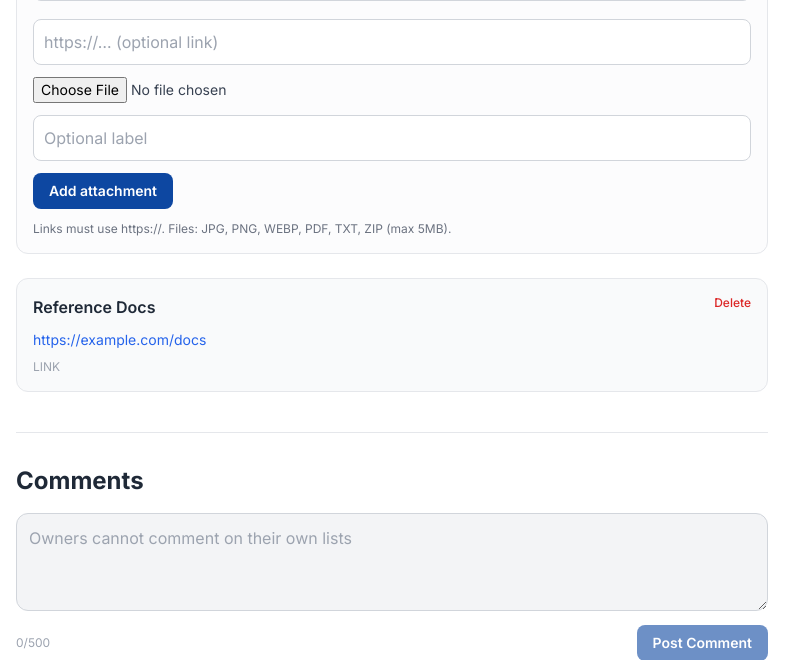
Scenario: ListDetail › deletes a list attachment and removes it from UI
The width and height of the screenshot is (785, 660).
(page scrolled)
expect the text "Reference Docs" is shown: met, box [33, 297, 156, 317]
Click the button "Delete": [733, 303] box [714, 295, 751, 311]
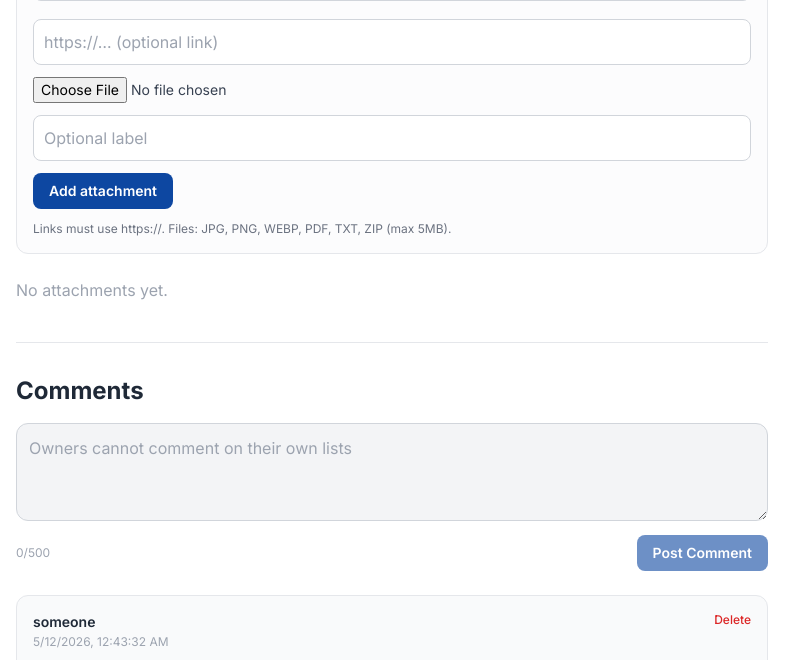
expect the text "Reference Docs" is gone: met
